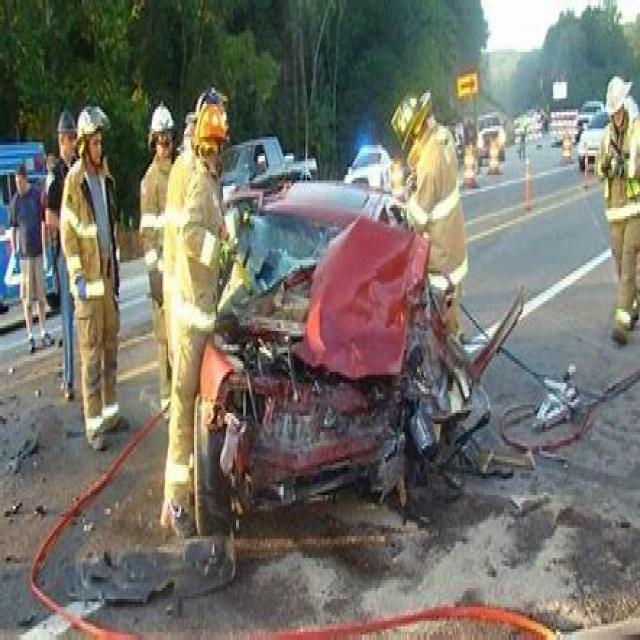Accident: (34, 46, 520, 594)
